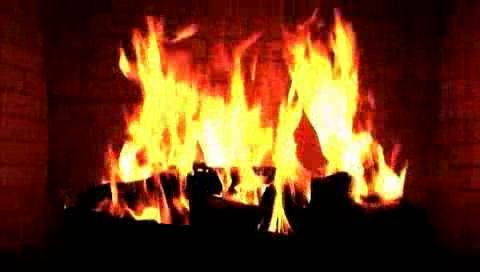fire: (108, 15, 396, 253)
